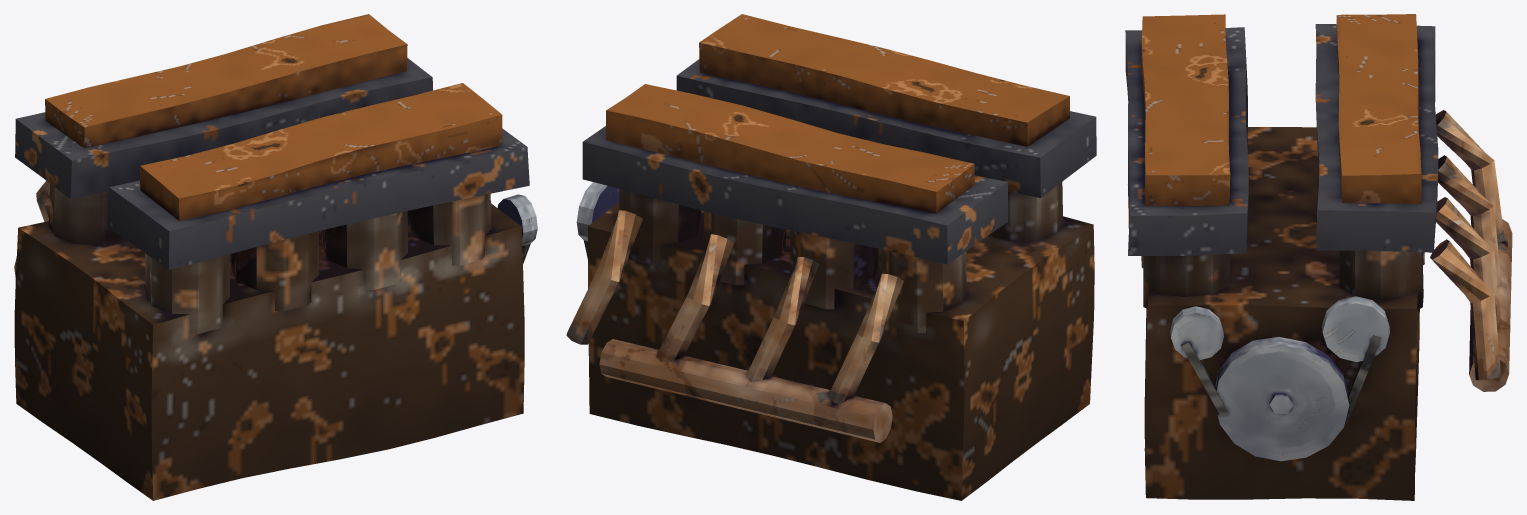
Rendered from RockEngine.glb.
The picture shows the model from 3 angles, left to right: view 1: azimuth 30°, elevation 25°; view 2: azimuth 150°, elevation 25°; view 3: azimuth 270°, elevation 25°; orthographic projection. The views are drawn at different scales.
Visible parts, largest first — view 1: Block, RockerCovers, Heads, Pulleys; view 2: Block, RockerCovers, Heads, Manifold, Pulleys; view 3: Block, RockerCovers, Heads, Pulleys, Manifold, Belt.
Boxes of the visible parts, left/top/right/bottom form: Block: left=14, top=184, right=524, bottom=500; RockerCovers: left=45, top=14, right=502, bottom=221; Heads: left=15, top=58, right=529, bottom=269; Pulleys: left=497, top=194, right=537, bottom=245; Block: left=588, top=182, right=1094, bottom=500; RockerCovers: left=606, top=14, right=1069, bottom=213; Heads: left=582, top=59, right=1096, bottom=264; Manifold: left=566, top=210, right=904, bottom=442; Pulleys: left=576, top=182, right=619, bottom=241; Block: left=1141, top=127, right=1424, bottom=500; RockerCovers: left=1141, top=14, right=1421, bottom=205; Heads: left=1125, top=24, right=1438, bottom=255; Pulleys: left=1170, top=296, right=1389, bottom=461; Manifold: left=1430, top=110, right=1512, bottom=391; Belt: left=1181, top=335, right=1381, bottom=424.
Size of the model in its own units: 3.26 by 2.38 by 2.62.
Materials: 6 (6 with a texture image).
